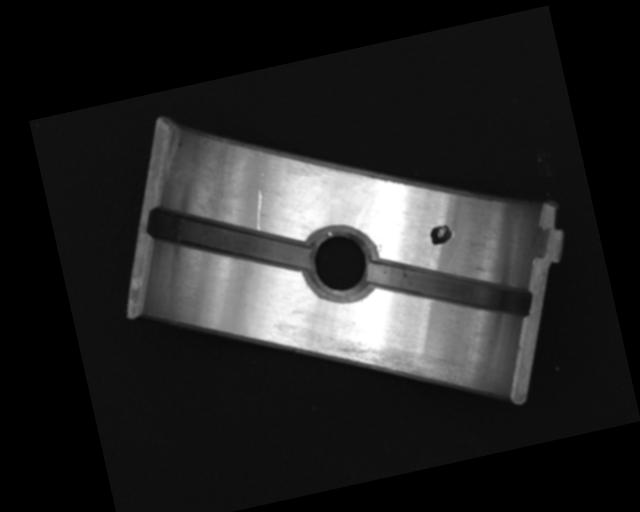blot: (427, 222, 457, 246)
gap: (146, 178, 312, 300), (365, 229, 534, 346)
hole: (299, 218, 382, 309)
nick: (249, 189, 270, 231)
scratch: (314, 317, 463, 414)
